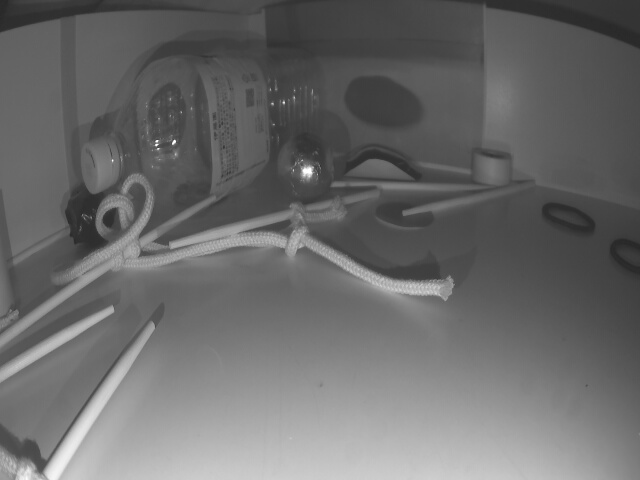Dead: (67, 184, 114, 244)
Live: (277, 133, 332, 202)
